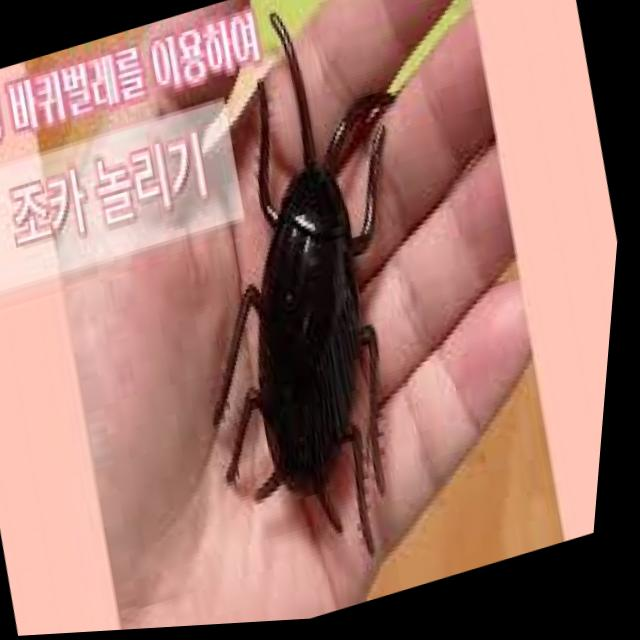Cockroach: (111, 0, 517, 579)
